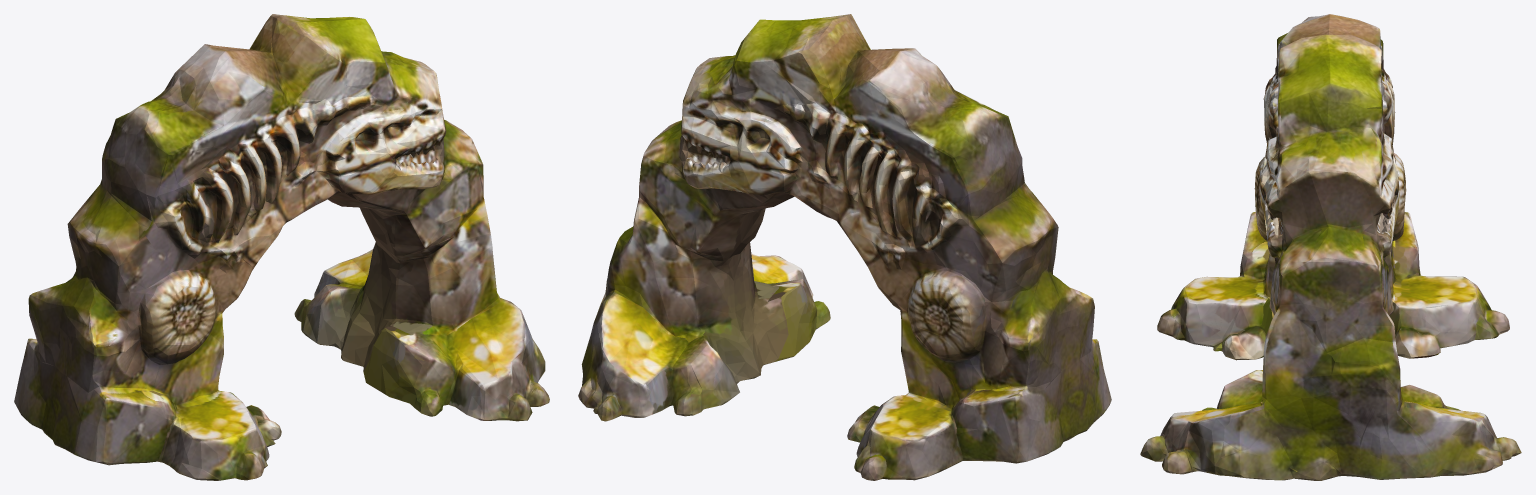
Rendered from dino_fossil_arch_1117.glb.
3 views of the same model, side by side, from view 1: azimuth 30°, elevation 25°; view 2: azimuth 150°, elevation 25°; view 3: azimuth 270°, elevation 25° (orthographic).
Visible parts, largest first — view 1: tmp4vy30zmy.ply; view 2: tmp4vy30zmy.ply; view 3: tmp4vy30zmy.ply.
Part boxes in pixels (x1,y1,x2,y2): tmp4vy30zmy.ply: (14,14,549,480); tmp4vy30zmy.ply: (578,14,1111,480); tmp4vy30zmy.ply: (1140,14,1521,480).
Bounding box in the file's own units: 2 × 1.54 × 1.49.
1 material, 1 textured.
